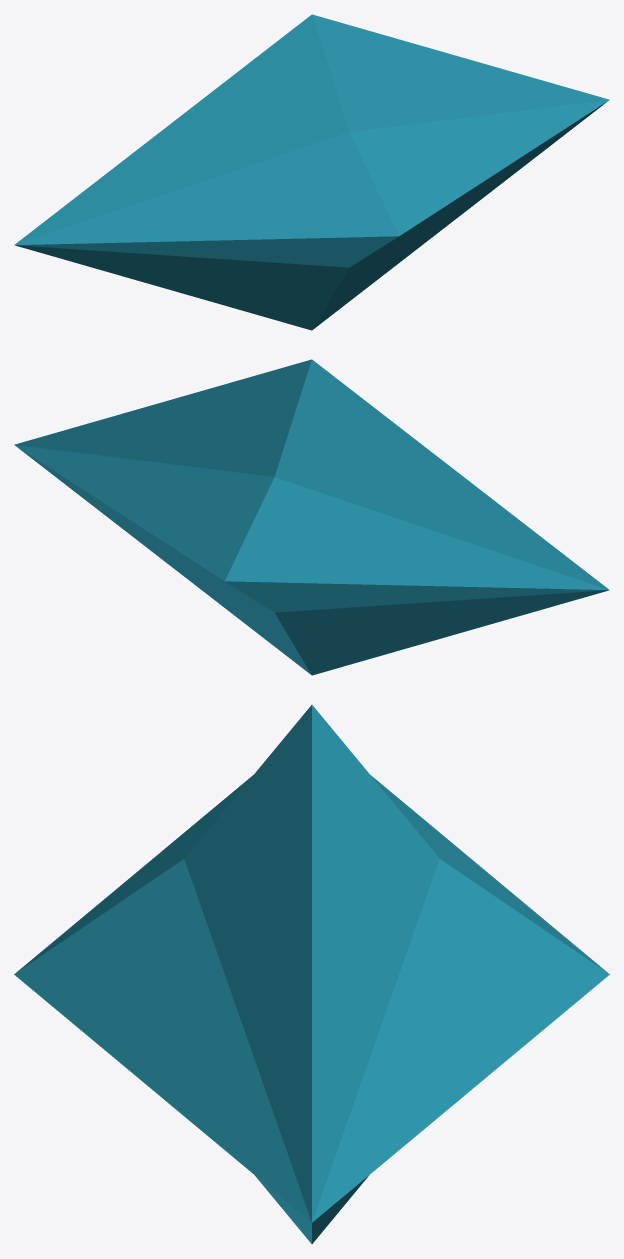
The model's file is auto_attack.fbx.
3 views of the same model, one above another, from view 1: azimuth 30°, elevation 25°; view 2: azimuth 150°, elevation 25°; view 3: azimuth 270°, elevation 25° (orthographic). The views are drawn at different scales.
Parts seen in each view (by area): view 1: polySurface102; view 2: polySurface102; view 3: polySurface102.
Part boxes in pixels (x1=…): polySurface102: x1=14, y1=14, x2=609, y2=330; polySurface102: x1=14, y1=359, x2=609, y2=675; polySurface102: x1=14, y1=705, x2=609, y2=1243.
Bounding box in the file's own units: 4.44 × 2.25 × 2.25.
